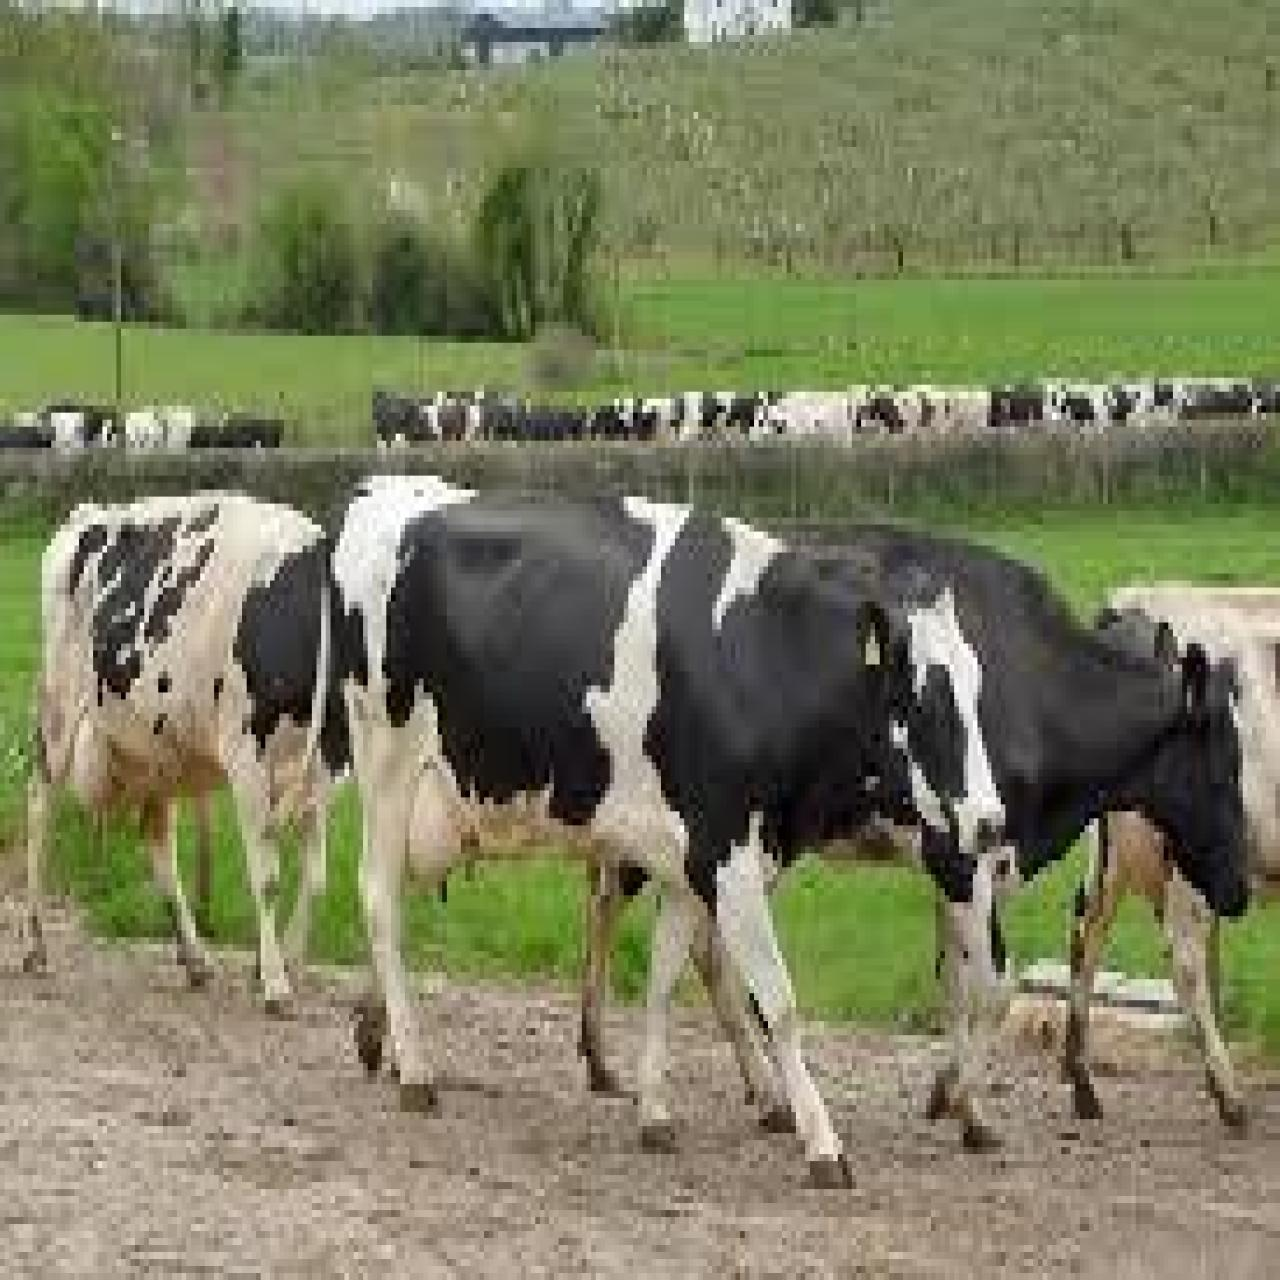cow: (333, 469, 1008, 1197), (565, 525, 1250, 1098), (21, 497, 352, 1021), (1061, 580, 1280, 1133)
